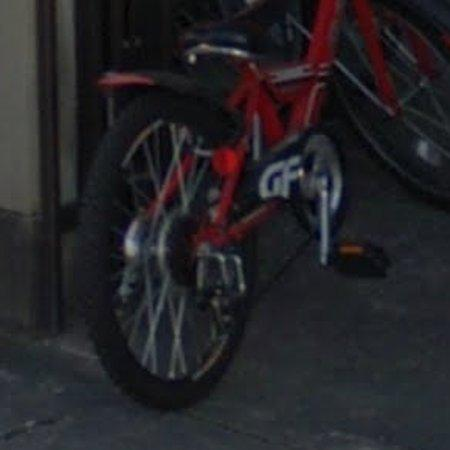motorcycles: (80, 0, 450, 405)
